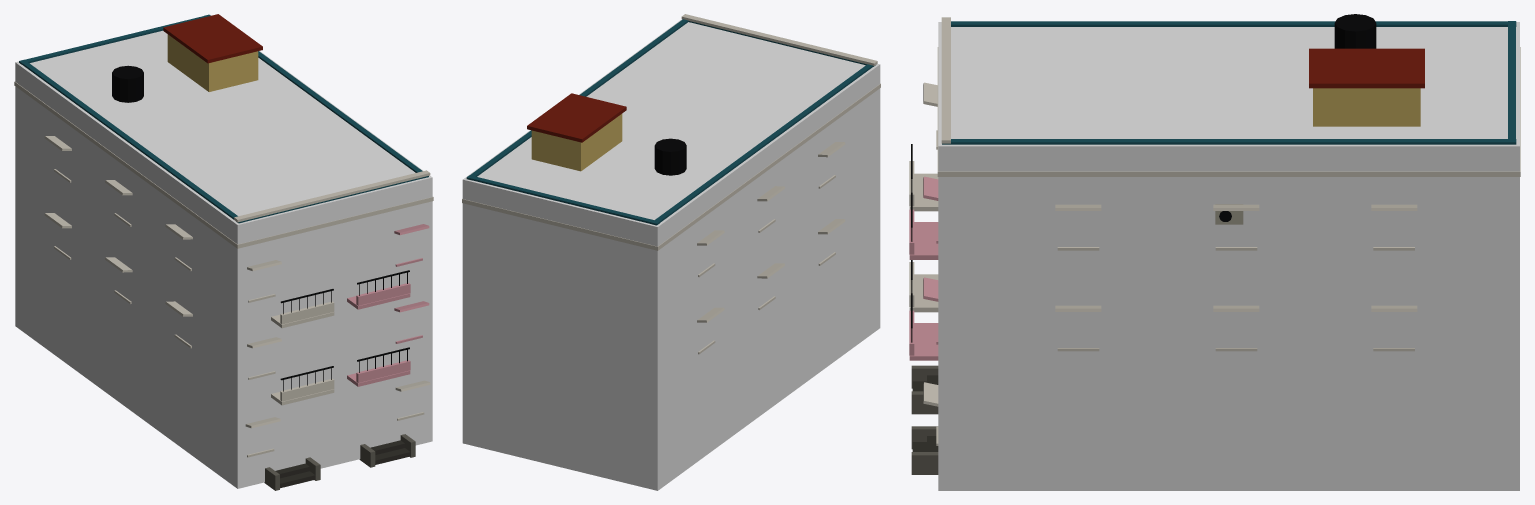
The model's file is N02_north_tenement.glb.
3 renders of one model, left to right at view 1: azimuth 30°, elevation 25°; view 2: azimuth 150°, elevation 25°; view 3: azimuth 270°, elevation 25°, orthographic. The views are drawn at different scales.
Parts seen in each view (by area): view 1: COL_Main, LOD0; view 2: COL_Main, LOD0; view 3: COL_Main, LOD0.
Boxes of the visible parts, x1=… form: COL_Main: x1=15, y1=15, x2=432, y2=488; LOD0: x1=14, y1=14, x2=433, y2=490; COL_Main: x1=462, y1=19, x2=880, y2=490; LOD0: x1=462, y1=14, x2=880, y2=354; COL_Main: x1=938, y1=22, x2=1519, y2=490; LOD0: x1=909, y1=14, x2=1520, y2=474.
Size of what is drawn, in the model's own units: 9.05 by 12.01 by 17.03.
